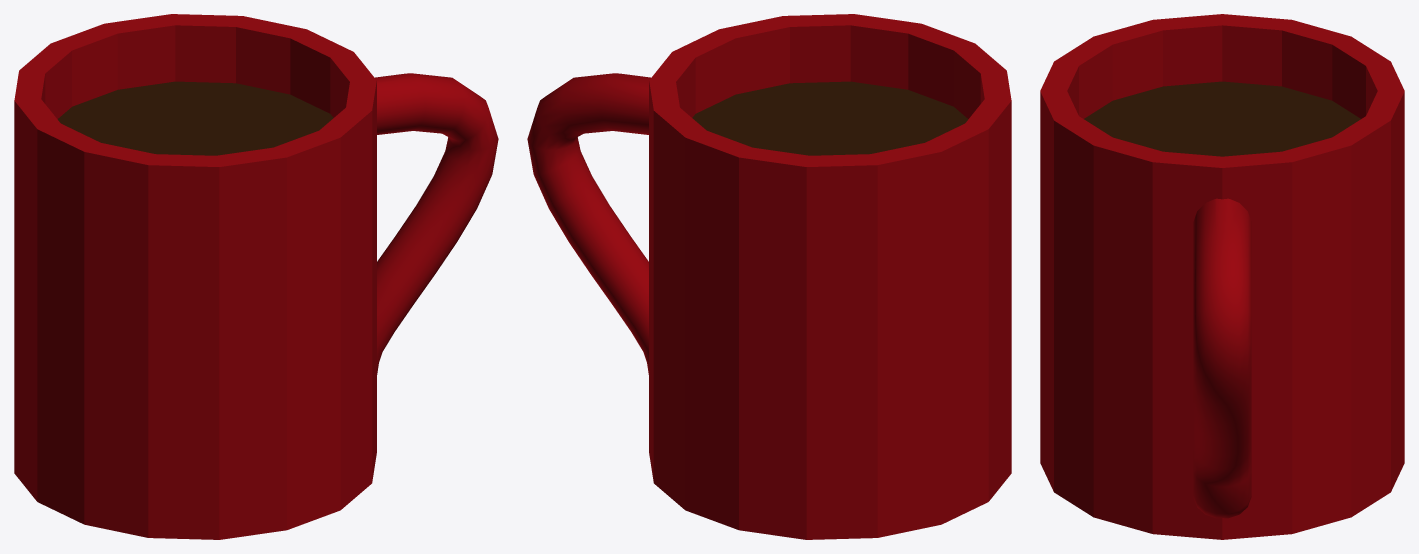
File: Кружка.fbx
3 views of the same model, side by side, from view 1: azimuth 30°, elevation 25°; view 2: azimuth 150°, elevation 25°; view 3: azimuth 270°, elevation 25° (orthographic).
Parts seen in each view (by area): view 1: Circle.001; view 2: Circle.001; view 3: Circle.001.
Part boxes in pixels (<box>): Circle.001: <box>14,14,498,539</box>; Circle.001: <box>527,14,1011,539</box>; Circle.001: <box>1040,14,1404,539</box>.
Size of the model in its own units: 30.28 by 21.02 by 23.65.
